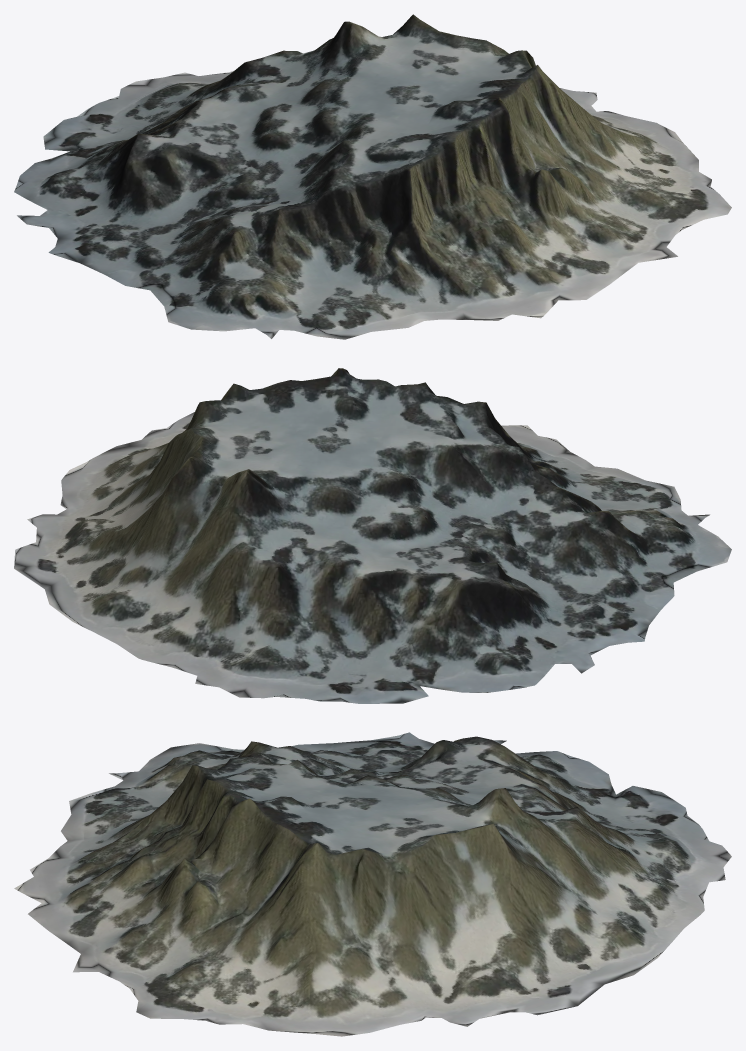
Rendered from tundra-mountain-3.glb.
The picture shows the model from 3 angles, top to bottom: view 1: azimuth 30°, elevation 25°; view 2: azimuth 150°, elevation 25°; view 3: azimuth 270°, elevation 25°; orthographic projection. The views are drawn at different scales.
Visible parts, largest first — view 1: geometry_0; view 2: geometry_0; view 3: geometry_0.
Part boxes in pixels (x1,y1,x2,y2): geometry_0: (14,14,731,339); geometry_0: (14,368,731,703); geometry_0: (14,732,731,1036).
Size of the model in its own units: 0.9676 by 0.1892 by 0.9685.
1 material, 1 textured.
